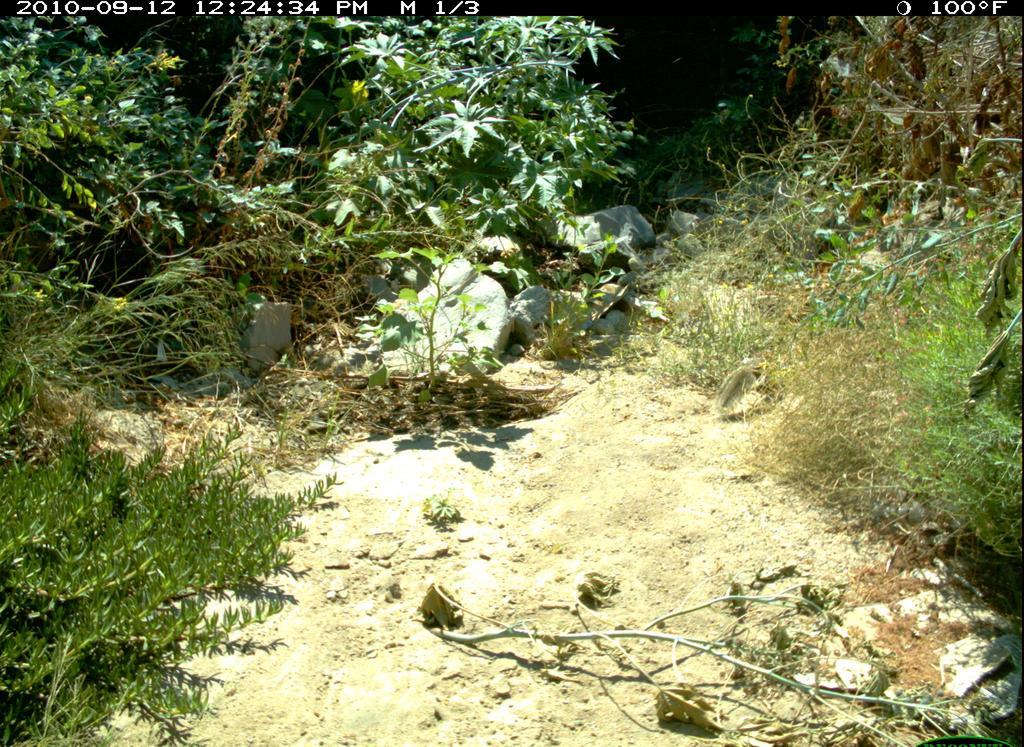squirrel: (716, 352, 789, 418)
